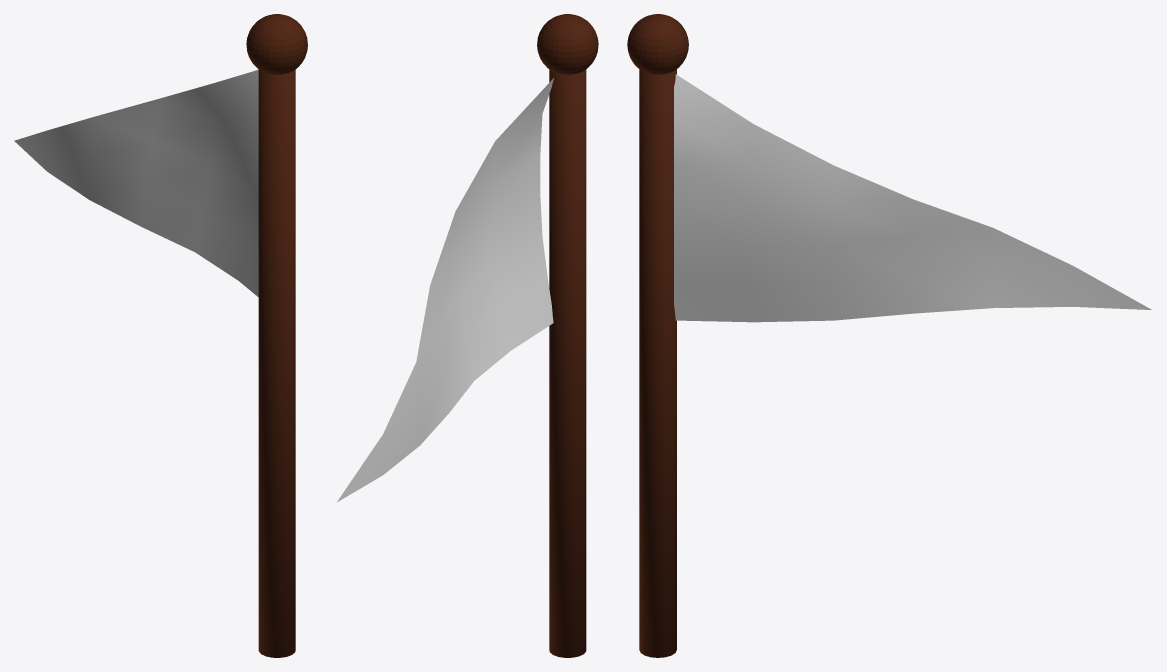
The model's file is Flag.glb.
3 renders of one model, left to right at view 1: azimuth 30°, elevation 25°; view 2: azimuth 150°, elevation 25°; view 3: azimuth 270°, elevation 25°, orthographic.
Visible parts, largest first — view 1: Plane, Cylinder; view 2: Plane, Cylinder; view 3: Plane, Cylinder.
Boxes of the visible parts, x1=… form: Plane: x1=14, y1=69, x2=258, y2=296; Cylinder: x1=246, y1=14, x2=307, y2=657; Plane: x1=337, y1=78, x2=553, y2=502; Cylinder: x1=537, y1=14, x2=598, y2=657; Plane: x1=674, y1=74, x2=1151, y2=322; Cylinder: x1=627, y1=14, x2=688, y2=657.
Size of the model in its own units: 0.1955 by 2.17 by 1.63.
